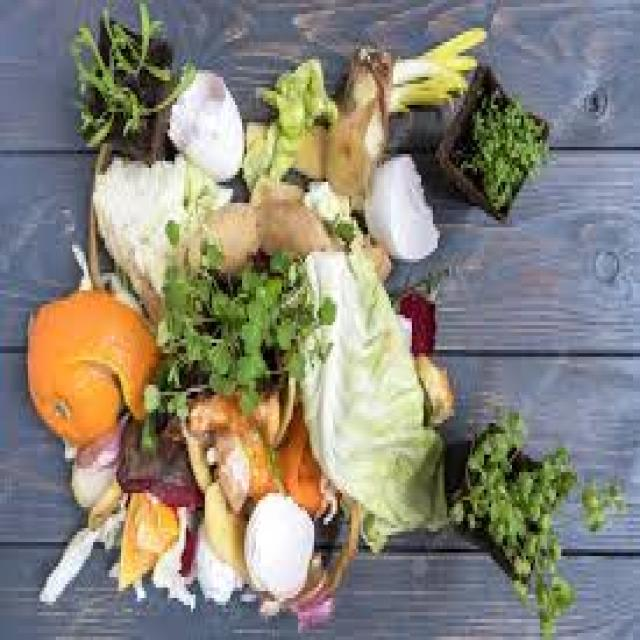Organik: (29, 10, 626, 640), (289, 243, 473, 581), (14, 264, 162, 443), (225, 469, 324, 626)
